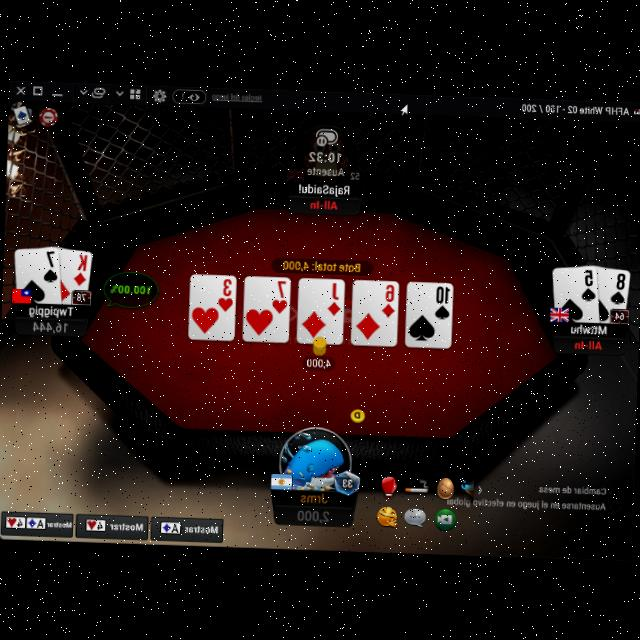3h: (216, 274, 234, 312)
5s: (578, 264, 599, 301)
6d: (379, 280, 396, 317)
7h: (271, 277, 289, 314)
7s: (40, 246, 60, 282)
8s: (608, 267, 628, 304)
9s: (608, 268, 627, 305)
Jd: (325, 278, 343, 316)
Kd: (72, 251, 89, 286)
Ts: (432, 281, 452, 319)
all_in_symbol: (574, 336, 604, 351), (307, 196, 338, 210)
bet_text: (304, 355, 330, 367)
dealer: (348, 403, 368, 422)
pot_text: (282, 256, 361, 272)
stack_text: (294, 505, 332, 523), (30, 317, 67, 332)
